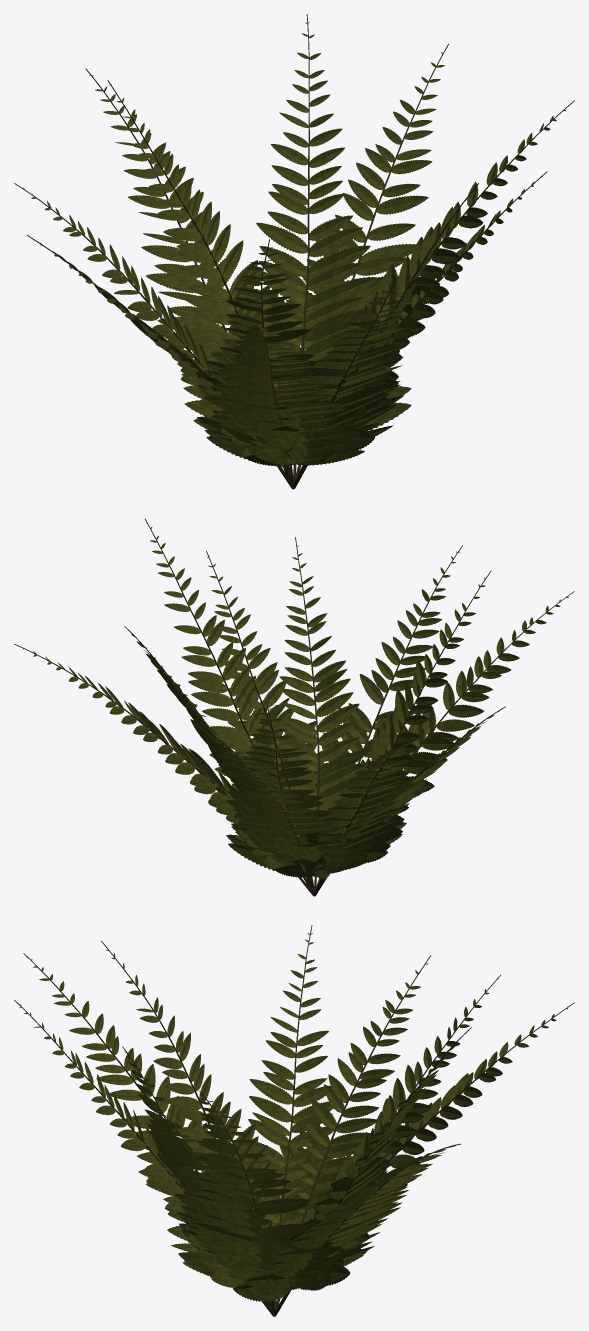
Rendered from bracken_v02.fbx.
3 views of the same model, one above another, from view 1: azimuth 30°, elevation 25°; view 2: azimuth 150°, elevation 25°; view 3: azimuth 270°, elevation 25° (orthographic). The views are drawn at different scales.
Parts seen in each view (by area): view 1: bracken_v02; view 2: bracken_v02; view 3: bracken_v02.
Boxes of the visible parts, left/top/right/bottom form: bracken_v02: left=14, top=14, right=574, bottom=489; bracken_v02: left=14, top=518, right=574, bottom=896; bracken_v02: left=14, top=925, right=574, bottom=1316.
Size of the model in its own units: 201 by 141 by 208.
2 materials, 2 textured.
